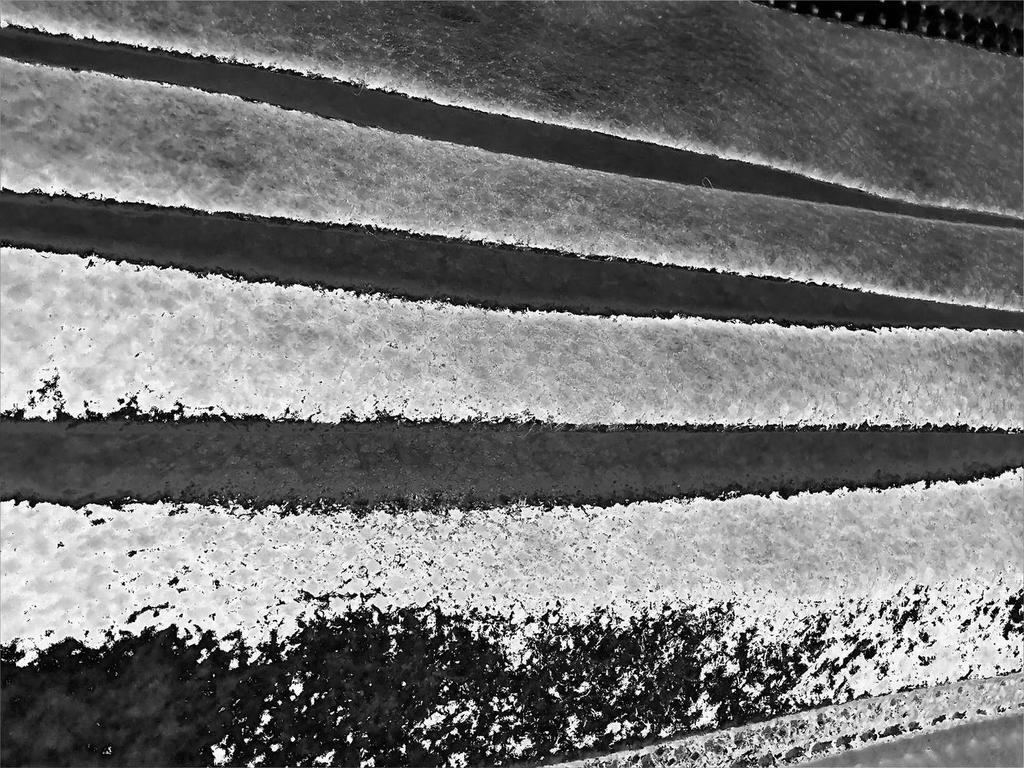High GSM: (1, 1, 1021, 766)
